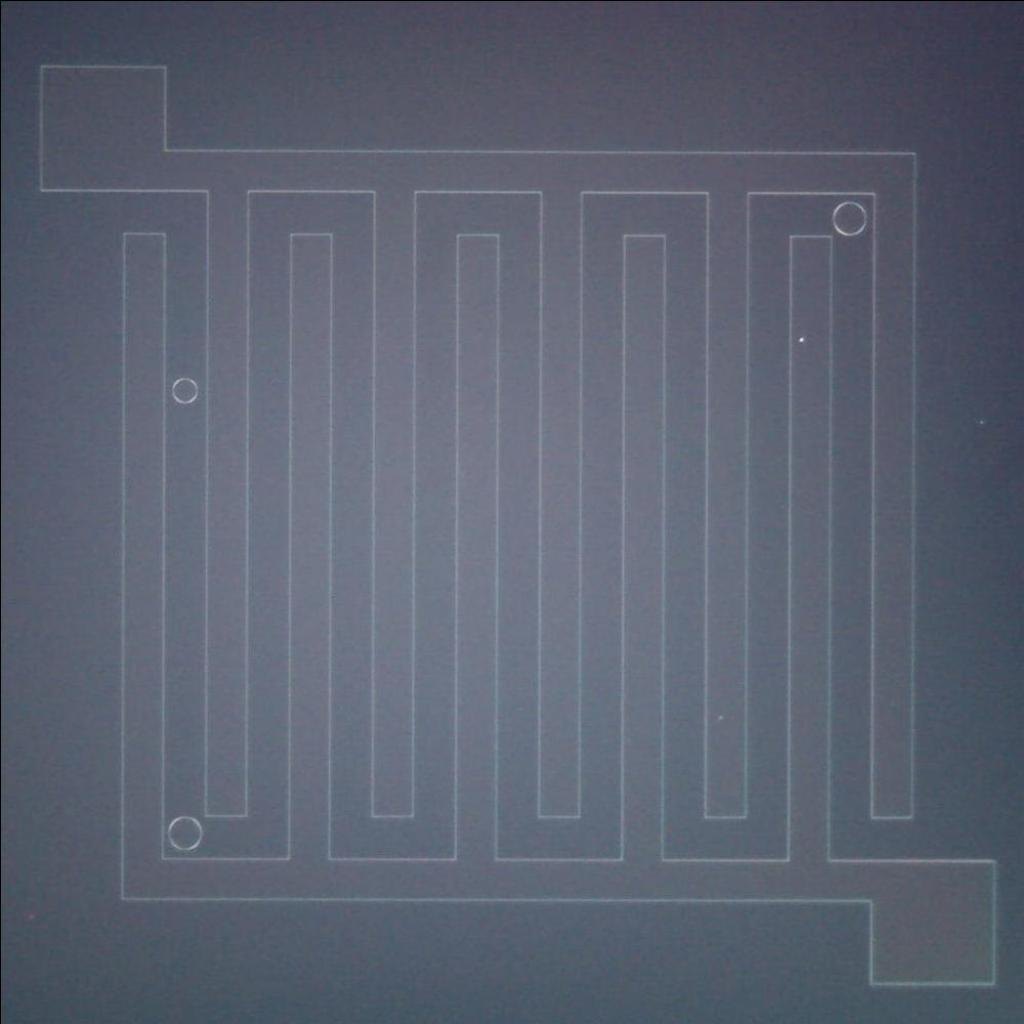circle: (830, 193, 874, 237), (165, 811, 207, 855), (167, 374, 200, 404)
dot: (791, 326, 815, 354)
